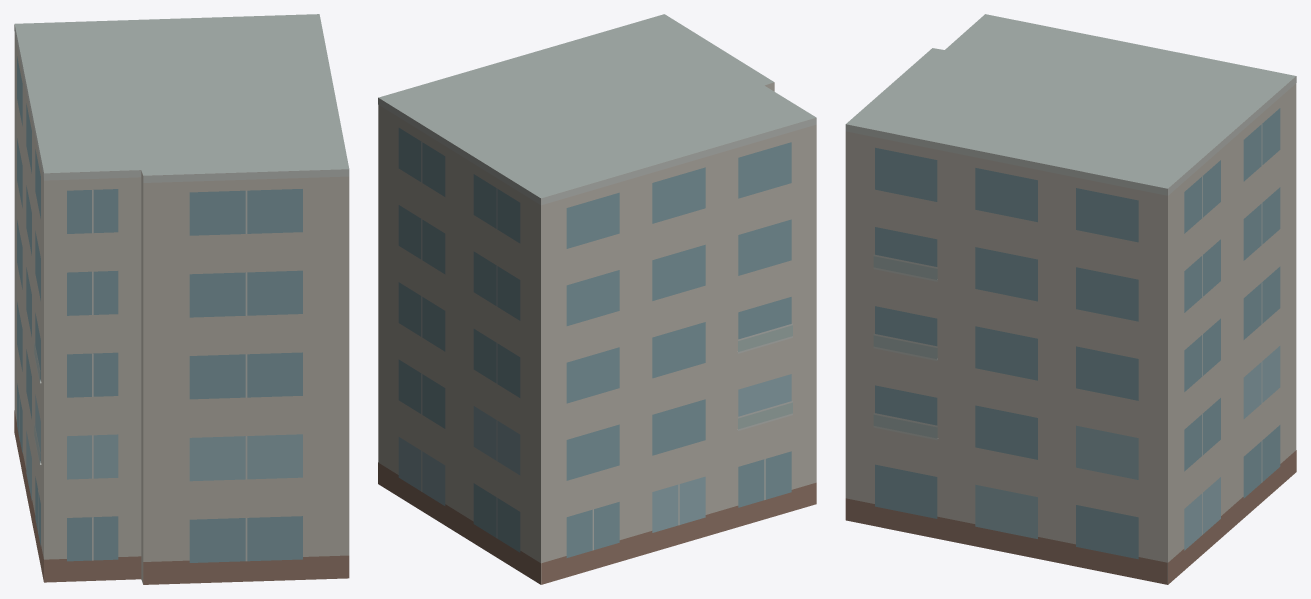
File: survey-upis-32512154.glb
3 views of the same model, side by side, from view 1: azimuth 30°, elevation 25°; view 2: azimuth 150°, elevation 25°; view 3: azimuth 270°, elevation 25° (orthographic). The views are drawn at different scales.
Visible parts, largest first — view 1: survey-upis-32512154.tmp; view 2: survey-upis-32512154.tmp; view 3: survey-upis-32512154.tmp.
Part boxes in pixels (box(x1,y1,x2,y2)): survey-upis-32512154.tmp: box(14, 14, 349, 584); survey-upis-32512154.tmp: box(378, 14, 816, 584); survey-upis-32512154.tmp: box(845, 14, 1296, 584).
Size of the model in its own units: 12.88 by 13.6 by 14.03.
